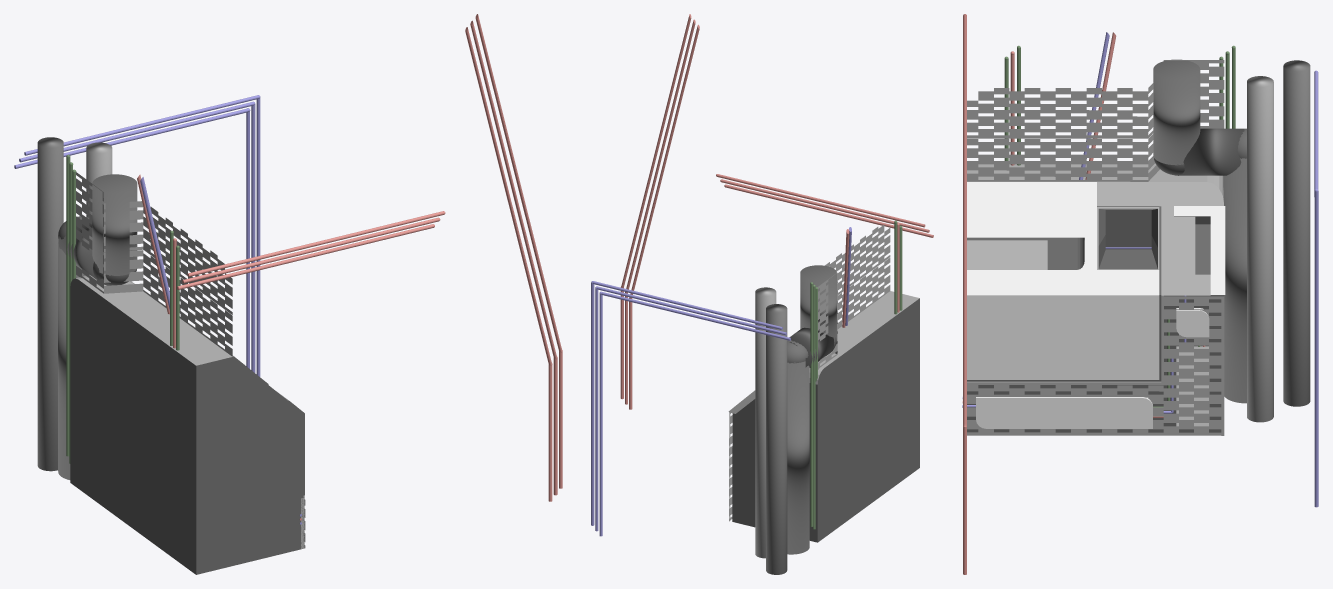
File: Console&IntLift.fbx
3 views of the same model, side by side, from view 1: azimuth 30°, elevation 25°; view 2: azimuth 150°, elevation 25°; view 3: azimuth 270°, elevation 25° (orthographic). The views are drawn at different scales.
Parts seen in each view (by area): view 1: Console, CableLift, CacheLift, Cylinder.017, Cache.002, Cylinder.019, Cylinder.002, Cylinder.005, Cylinder.008, Cylinder.012, Cylinder.011, Cylinder.021 (+12 smaller); view 2: Console, CableLift, Cylinder.019, Cylinder.018, CacheLift, Cylinder.017, Cache.002, Cylinder.010, Cylinder.011, Cylinder.012, Cylinder.002, Cylinder.021 (+10 smaller); view 3: Console, CacheConsole, CableLift, Cylinder.018, CacheLift, Cache.002, Cylinder.019, Cylinder.017, Cylinder.020, Cylinder.002, Cylinder.012, Cylinder.013 (+1 smaller).
Boxes of the visible parts, x1,y1,x2,y2 form: Console: [70, 275, 304, 574]; CableLift: [37, 137, 63, 471]; CacheLift: [76, 172, 232, 356]; Cylinder.017: [92, 174, 137, 285]; Cache.002: [104, 201, 232, 314]; Cylinder.019: [58, 216, 89, 479]; Cylinder.002: [475, 14, 562, 352]; Cylinder.005: [470, 20, 556, 359]; Cylinder.008: [465, 27, 551, 365]; Cylinder.012: [256, 98, 260, 376]; Cylinder.011: [251, 104, 255, 372]; Cylinder.021: [66, 154, 70, 456]; Console: [728, 291, 919, 542]; CableLift: [766, 304, 787, 574]; Cylinder.019: [787, 340, 809, 554]; Cylinder.018: [755, 287, 776, 558]; CacheLift: [817, 258, 890, 369]; Cylinder.017: [800, 265, 836, 345]; Cache.002: [825, 225, 890, 313]; Cylinder.010: [599, 291, 602, 536]; Cylinder.011: [595, 287, 598, 531]; Cylinder.012: [591, 281, 594, 525]; Cylinder.002: [621, 14, 691, 287]; Cylinder.021: [810, 282, 813, 526]; Console: [967, 163, 1225, 432]; CacheConsole: [967, 296, 1224, 435]; CableLift: [1283, 60, 1310, 406]; Cylinder.018: [1247, 76, 1273, 422]; CacheLift: [967, 60, 1224, 181]; Cache.002: [967, 83, 1153, 138]; Cylinder.019: [1223, 128, 1246, 403]; Cylinder.017: [1153, 59, 1200, 175]; Cylinder.020: [1174, 128, 1244, 175]; Cylinder.002: [963, 14, 966, 425]; Cylinder.012: [1314, 189, 1318, 501]; Cylinder.013: [1314, 70, 1318, 191].
Bounding box in the file's own units: 341 × 427 × 264.
